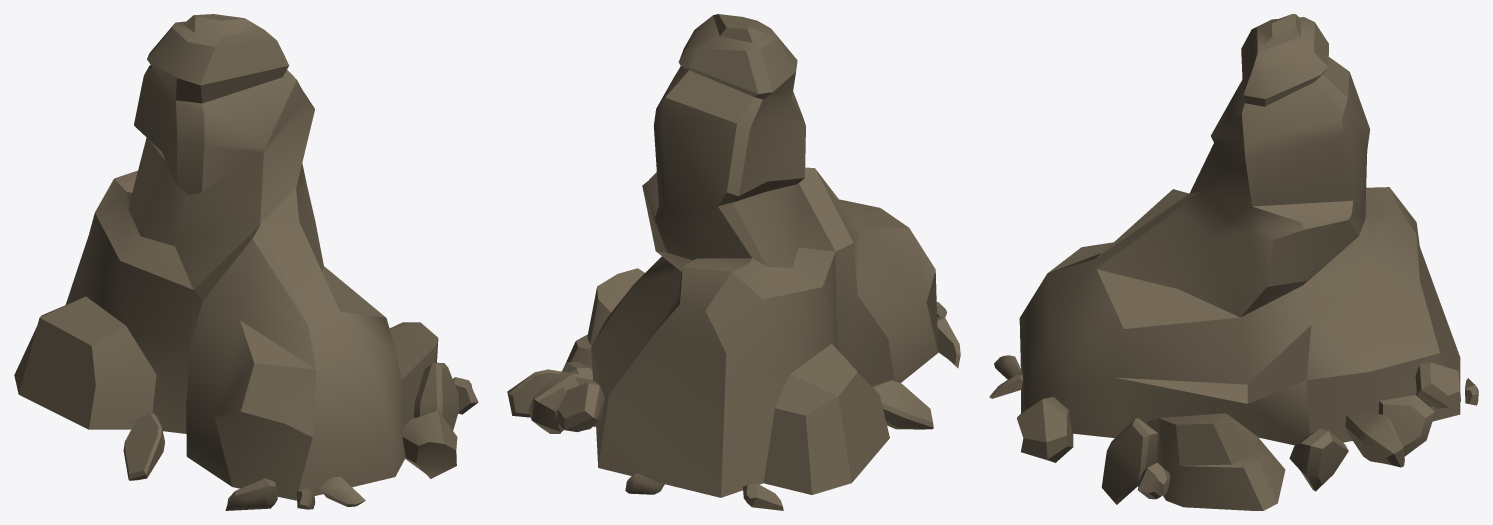
The model's file is dixing3.FBX.
The picture shows the model from 3 angles, left to right: view 1: azimuth 30°, elevation 25°; view 2: azimuth 150°, elevation 25°; view 3: azimuth 270°, elevation 25°; orthographic projection. The views are drawn at different scales.
Parts seen in each view (by area): view 1: Column02; view 2: Column02; view 3: Column02.
Part boxes in pixels (<box>): Column02: <box>14,14,478,510</box>; Column02: <box>507,14,960,510</box>; Column02: <box>989,14,1478,510</box>.
Bounding box in the file's own units: 9.29 × 10.58 × 11.33.
